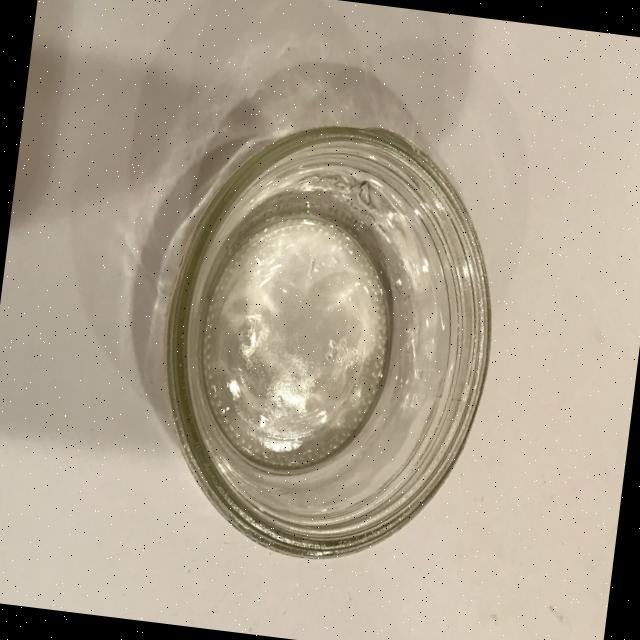glass: (138, 102, 516, 578)
